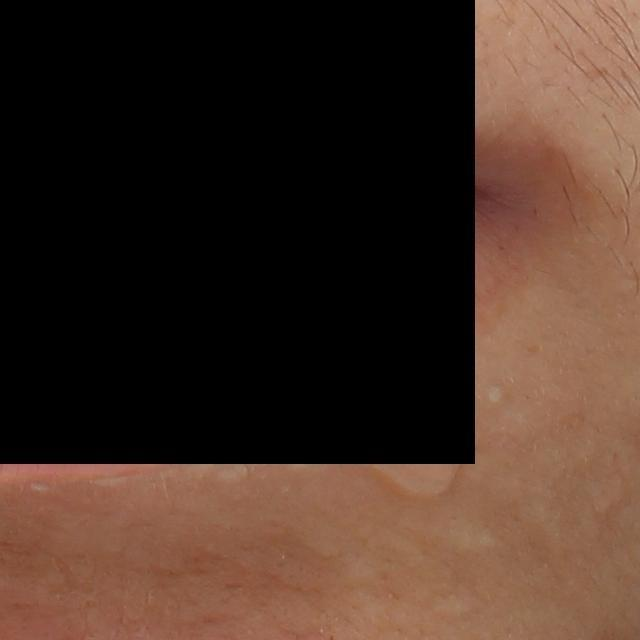comedo: (486, 382, 504, 404)
hypertrophic_scar: (432, 592, 482, 621), (470, 530, 504, 556)
